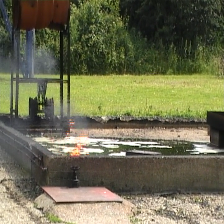fire_l: (70, 132, 88, 155)
